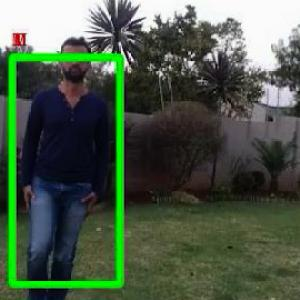follow: (18, 35, 103, 299)
